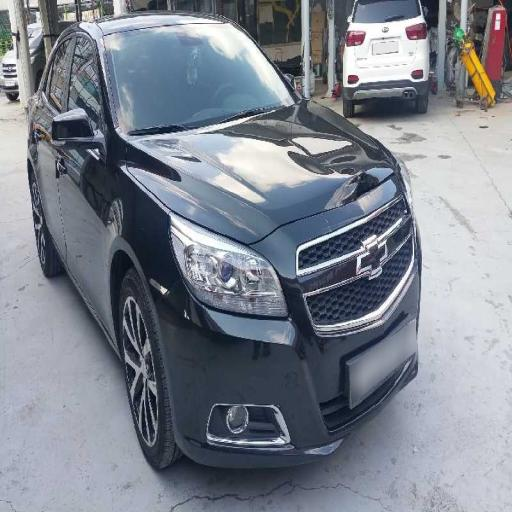dent: (293, 165, 397, 220)
